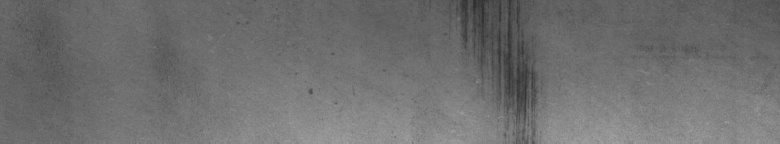ka: (453, 4, 544, 136)
